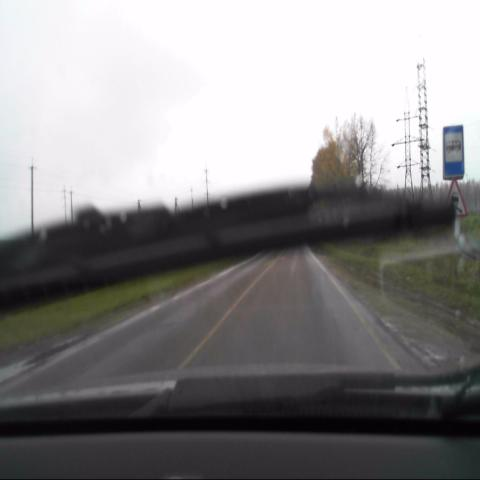1_15: (444, 180, 466, 219)
